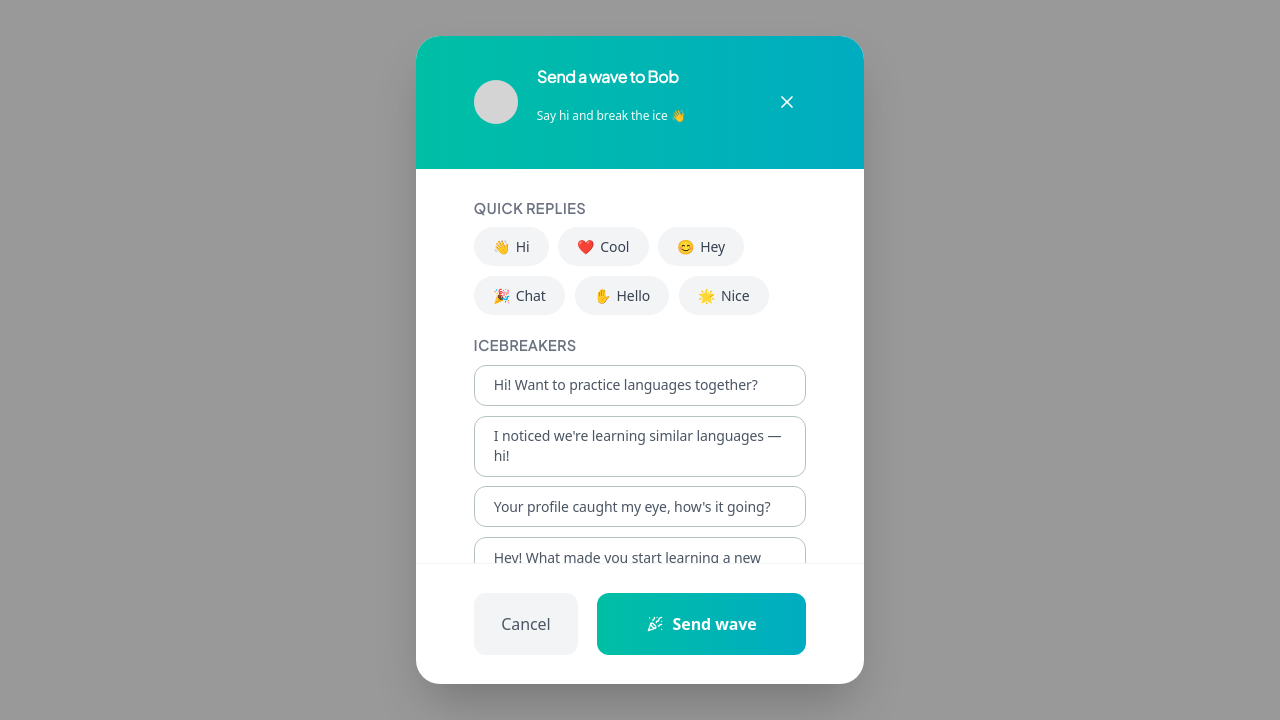
Test: WaveSheet › shows an already-waved state and disables Send on ALREADY_WAVED
Click the button with test id "wave-sheet-send" at (702, 624), box top-left (597, 593), bottom-right (806, 655)
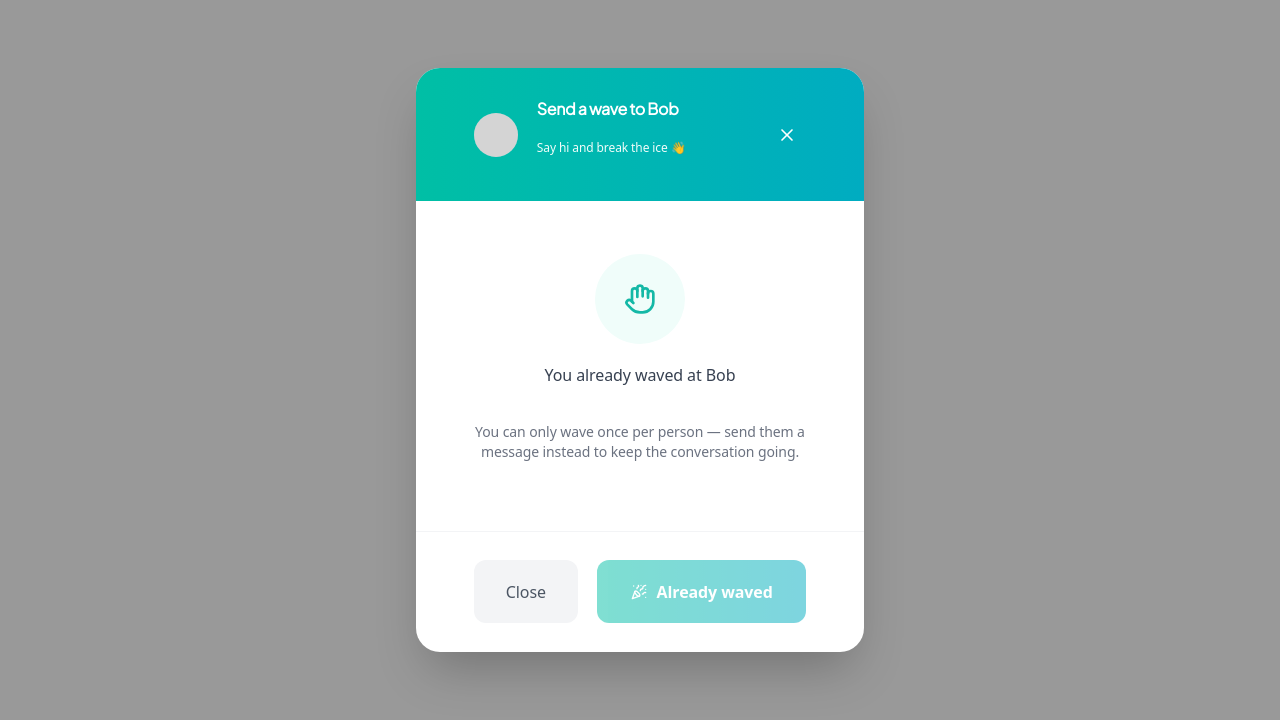
expect the text "You already waved at Bob" is shown: met, box top-left (545, 363), bottom-right (735, 387)
expect the button with test id "wave-sheet-send" is disabled: met, box top-left (597, 560), bottom-right (806, 623)
